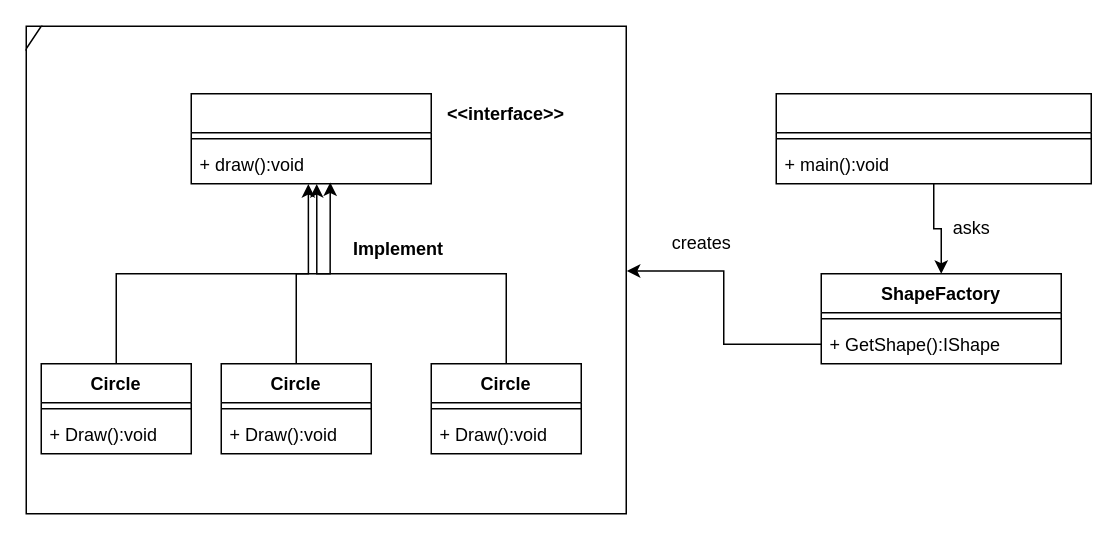
Image size: 1118x540. Some labels were removed from this diagram. Each missing label, with the box of its shape:
FactoryPatternProgram: (775, 92, 1091, 184)
IShape: (190, 92, 431, 184)
